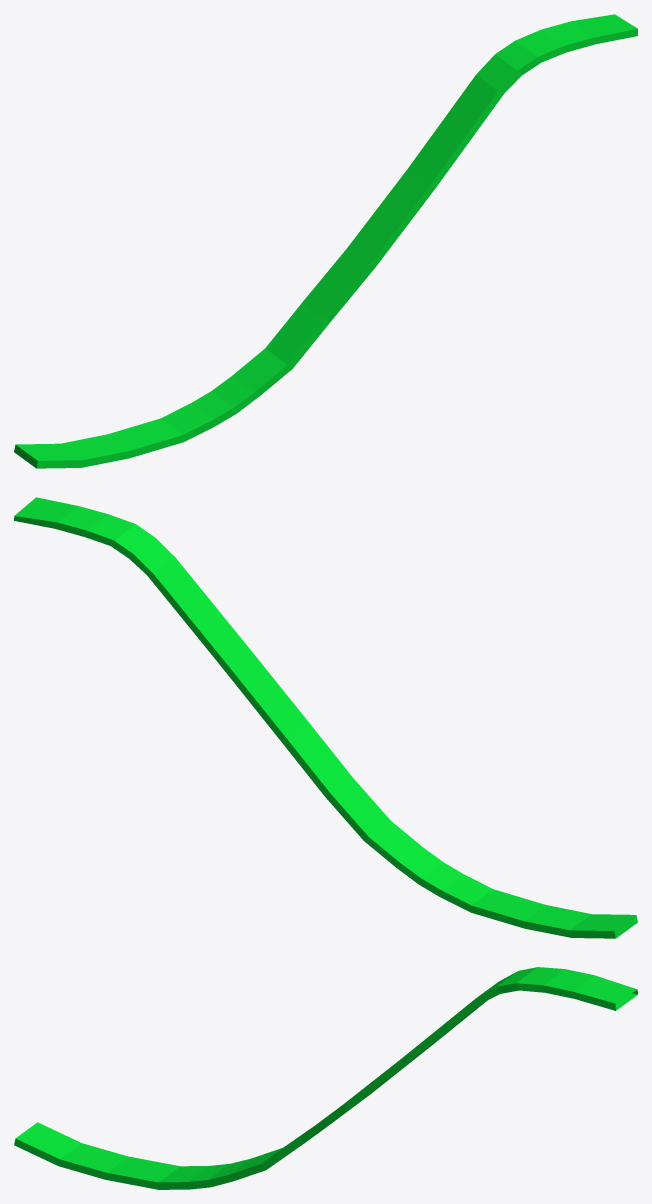
File: BigSlide2.fbx
3 views of the same model, one above another, from view 1: azimuth 30°, elevation 25°; view 2: azimuth 150°, elevation 25°; view 3: azimuth 330°, elevation 25° (orthographic).
Visible parts, largest first — view 1: Cube; view 2: Cube; view 3: Cube.
Boxes of the visible parts, left/top/right/bottom form: Cube: left=14, top=14, right=637, bottom=468; Cube: left=14, top=497, right=637, bottom=938; Cube: left=14, top=967, right=637, bottom=1189.
Bounding box in the file's own units: 7283 × 3467 × 581.
